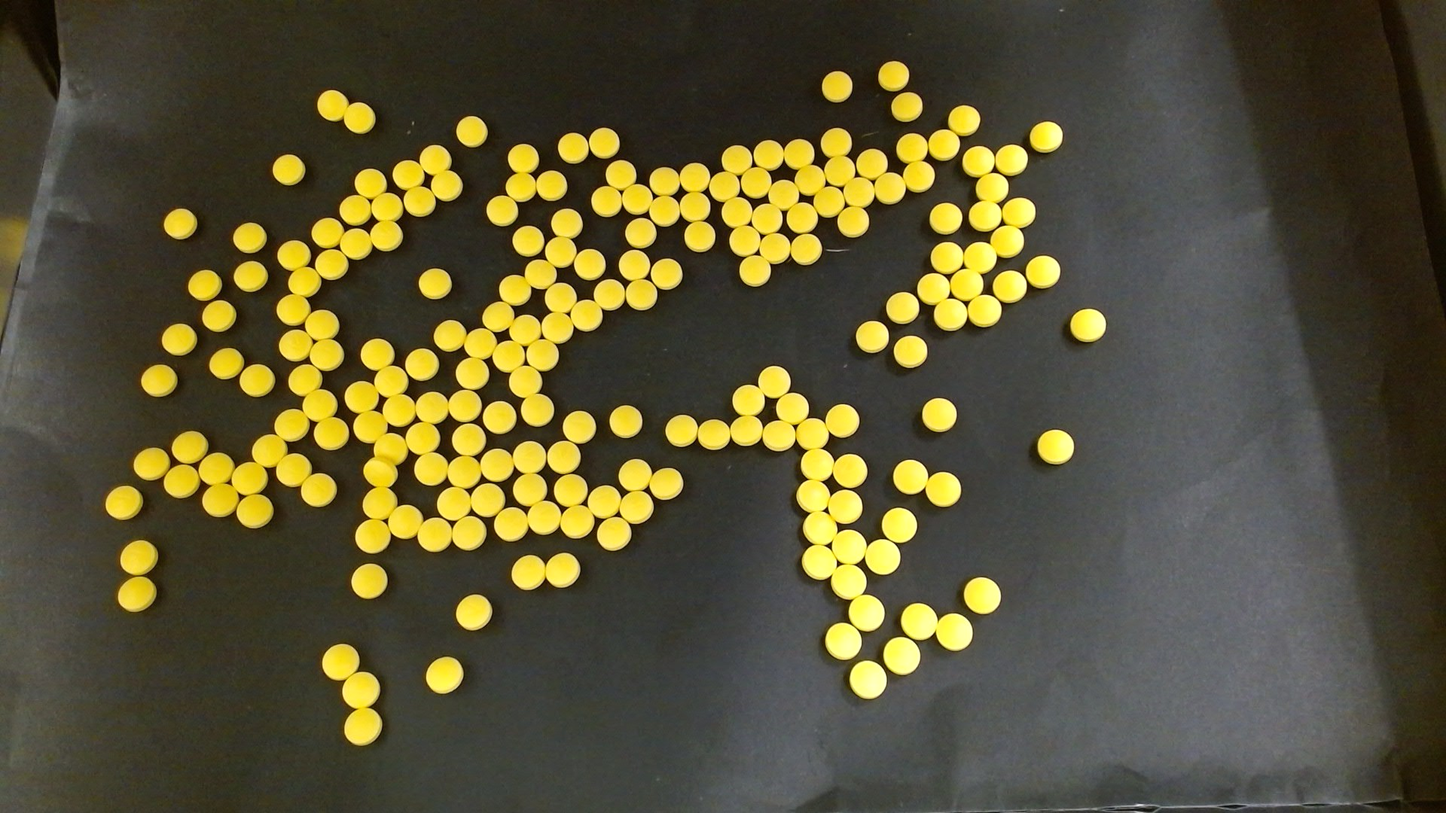Circle: (343, 707, 382, 746), (849, 659, 887, 699), (453, 593, 492, 631), (117, 576, 157, 613), (935, 613, 973, 651), (962, 577, 1001, 614), (824, 622, 862, 659), (900, 602, 938, 639), (342, 671, 380, 708), (322, 643, 359, 681), (425, 656, 463, 693), (350, 562, 388, 599), (882, 637, 919, 674), (119, 539, 157, 575), (849, 594, 885, 631), (1036, 428, 1074, 463), (354, 519, 390, 555), (299, 473, 336, 508), (236, 494, 274, 528), (105, 485, 143, 519), (925, 472, 961, 507), (831, 563, 867, 598), (893, 458, 928, 494), (171, 430, 208, 464), (132, 446, 169, 480), (1069, 308, 1106, 342), (832, 452, 867, 487), (801, 544, 836, 579), (922, 397, 957, 432), (511, 554, 545, 590), (450, 516, 486, 550), (163, 464, 199, 498), (160, 323, 197, 356), (140, 364, 177, 397), (831, 530, 866, 564), (545, 553, 579, 588), (596, 518, 631, 552), (417, 517, 451, 552), (865, 539, 899, 574), (881, 507, 916, 541), (276, 452, 311, 486), (463, 327, 498, 361), (231, 461, 267, 494), (313, 416, 349, 449), (202, 483, 238, 516), (286, 266, 322, 299), (829, 489, 863, 523), (413, 452, 447, 486), (825, 403, 859, 437), (1026, 254, 1060, 288), (802, 512, 837, 545), (209, 346, 244, 379), (252, 434, 287, 467), (373, 431, 408, 464), (307, 338, 343, 370), (238, 364, 274, 396), (990, 224, 1024, 257), (796, 479, 830, 512), (554, 473, 587, 507), (389, 504, 423, 537), (493, 508, 527, 541), (199, 452, 233, 485), (590, 184, 623, 218), (520, 394, 554, 427), (933, 297, 967, 330), (855, 320, 889, 353), (508, 313, 542, 346), (201, 300, 236, 332), (360, 338, 395, 370), (232, 221, 267, 253), (417, 267, 452, 299), (406, 421, 441, 453), (560, 504, 593, 537), (451, 422, 484, 455), (512, 440, 545, 473), (480, 449, 513, 482), (513, 472, 546, 505), (618, 458, 651, 491), (482, 400, 515, 433), (471, 482, 504, 515), (432, 319, 465, 352), (374, 364, 407, 397), (1030, 120, 1063, 153), (758, 364, 791, 397), (886, 291, 919, 324), (609, 404, 642, 437), (894, 334, 927, 367), (448, 457, 481, 490), (526, 339, 559, 372), (524, 258, 557, 291), (649, 195, 682, 228), (621, 184, 654, 217), (620, 491, 654, 523), (455, 357, 489, 389), (233, 260, 267, 292), (278, 329, 312, 361), (274, 410, 309, 441), (415, 391, 448, 423), (383, 394, 416, 426), (800, 449, 833, 481), (344, 380, 377, 412), (353, 410, 386, 442), (486, 195, 519, 227), (951, 269, 984, 301), (303, 389, 336, 421), (995, 143, 1028, 175), (438, 488, 471, 520), (362, 487, 395, 519), (527, 501, 560, 533), (563, 411, 596, 443), (993, 270, 1026, 302), (664, 415, 697, 447), (967, 294, 1000, 326), (728, 225, 761, 257), (648, 165, 681, 197), (813, 186, 846, 218), (1002, 196, 1036, 227), (276, 293, 310, 324), (271, 154, 305, 185), (163, 208, 197, 239), (371, 193, 405, 224), (362, 456, 397, 486), (964, 240, 996, 272), (776, 392, 808, 424), (968, 199, 1000, 231), (448, 390, 480, 422), (456, 115, 488, 147), (930, 241, 962, 273), (650, 257, 682, 289), (929, 202, 961, 234), (753, 140, 785, 172), (786, 202, 819, 233), (761, 419, 794, 450), (795, 418, 828, 449), (492, 340, 525, 371), (289, 363, 322, 394), (316, 248, 349, 279), (368, 219, 401, 250), (277, 239, 310, 270), (405, 349, 438, 380), (188, 269, 221, 300), (708, 171, 741, 202), (504, 172, 537, 203), (795, 164, 826, 197), (856, 148, 889, 179), (947, 105, 979, 136), (541, 312, 573, 343), (512, 224, 544, 255), (606, 159, 637, 191), (570, 299, 602, 330), (918, 273, 950, 304), (962, 145, 994, 176), (404, 186, 436, 217), (589, 486, 621, 517), (419, 144, 451, 175), (430, 169, 462, 200), (837, 206, 869, 237), (733, 384, 765, 415), (739, 255, 770, 287), (769, 179, 800, 211), (741, 167, 772, 199), (975, 172, 1008, 202), (697, 419, 730, 449), (904, 160, 935, 191), (822, 71, 853, 102), (928, 129, 959, 160), (874, 172, 905, 203), (574, 248, 605, 279), (340, 194, 371, 225), (593, 279, 624, 310), (548, 440, 579, 471), (731, 415, 762, 446), (340, 228, 371, 259), (557, 132, 588, 163), (343, 102, 374, 133), (311, 217, 343, 247), (499, 276, 531, 306), (619, 250, 651, 280), (481, 301, 513, 331), (305, 310, 337, 340), (650, 467, 682, 497), (878, 60, 909, 90), (545, 282, 576, 312), (545, 236, 576, 266), (510, 367, 541, 397), (752, 202, 782, 233), (680, 191, 711, 221), (721, 196, 751, 227), (624, 217, 655, 247), (896, 132, 927, 162), (684, 221, 715, 251), (821, 127, 852, 157), (625, 279, 656, 309), (316, 90, 347, 120), (791, 233, 822, 263), (393, 160, 425, 189), (844, 176, 874, 206), (824, 155, 854, 185), (679, 162, 709, 192), (759, 233, 789, 263), (507, 143, 537, 173), (892, 91, 923, 120), (589, 126, 618, 157), (535, 171, 566, 200), (721, 145, 751, 174), (784, 139, 814, 168), (552, 208, 582, 237), (355, 169, 386, 197)
